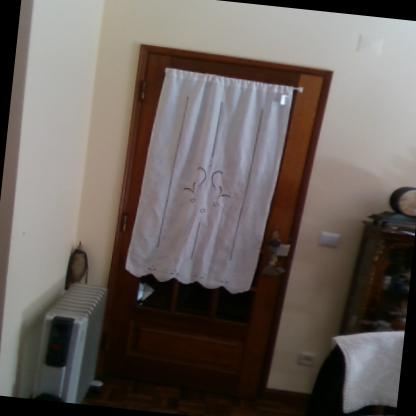closed: (74, 26, 340, 415)
